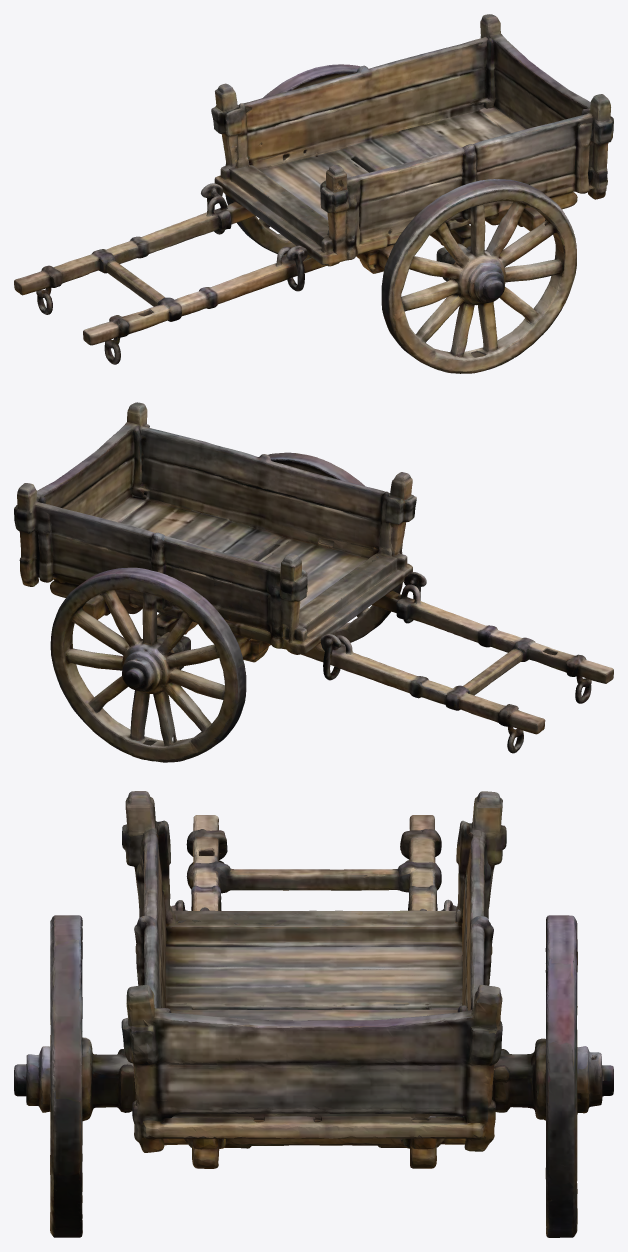
Rendered from horseCart.glb.
3 renders of one model, top to bottom at view 1: azimuth 30°, elevation 25°; view 2: azimuth 150°, elevation 25°; view 3: azimuth 270°, elevation 25°, orthographic. The views are drawn at different scales.
Parts seen in each view (by area): view 1: geometry_0; view 2: geometry_0; view 3: geometry_0.
Boxes of the visible parts, bbox=[...] form: geometry_0: bbox=[14, 14, 613, 373]; geometry_0: bbox=[14, 402, 613, 762]; geometry_0: bbox=[14, 791, 613, 1237].
Size of the model in its own units: 1 by 0.416 by 0.6527.
1 material, 1 textured.
